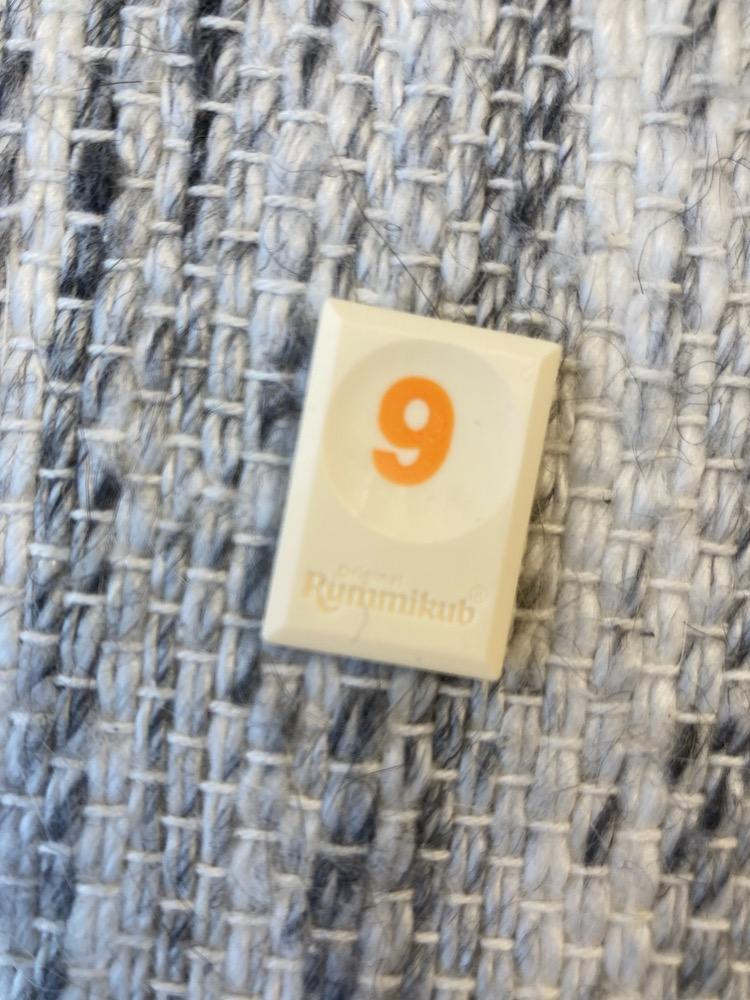orange_9: (262, 299, 561, 680)
